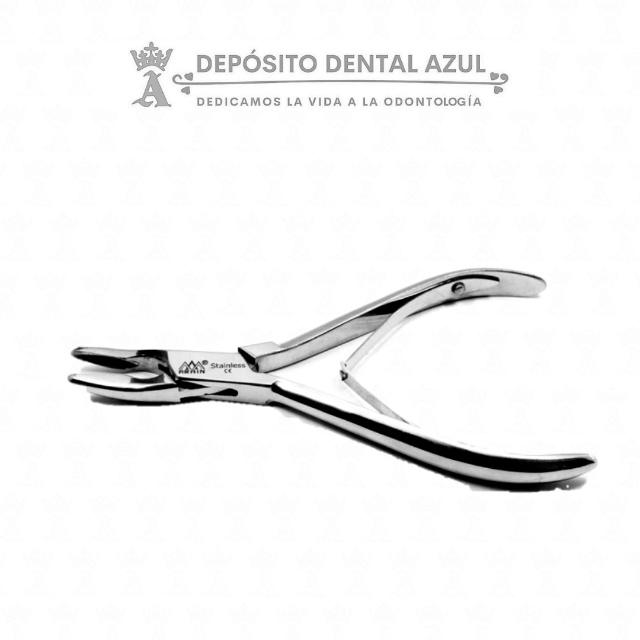gubia: (68, 267, 598, 495)
